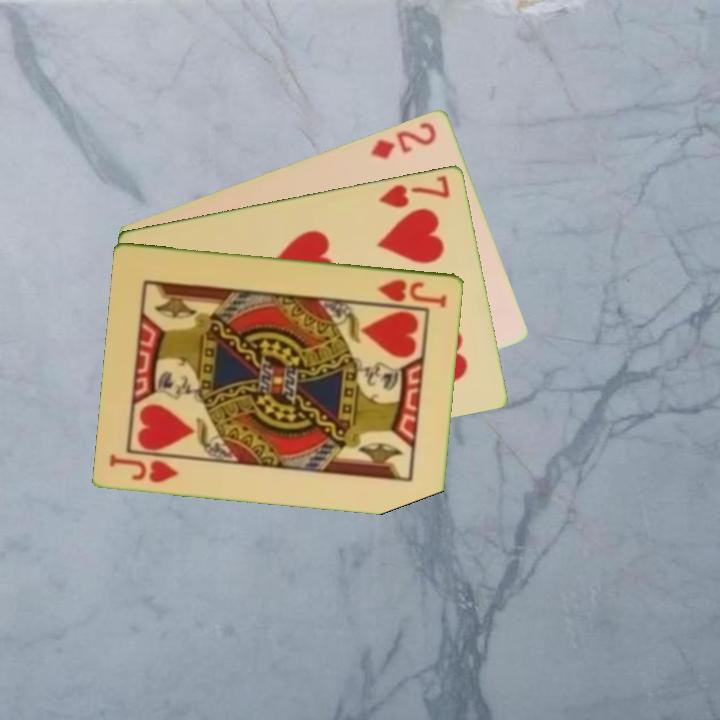2d: (367, 118, 440, 162)
7h: (375, 171, 453, 210)
Jh: (374, 275, 450, 310), (106, 451, 182, 485)
